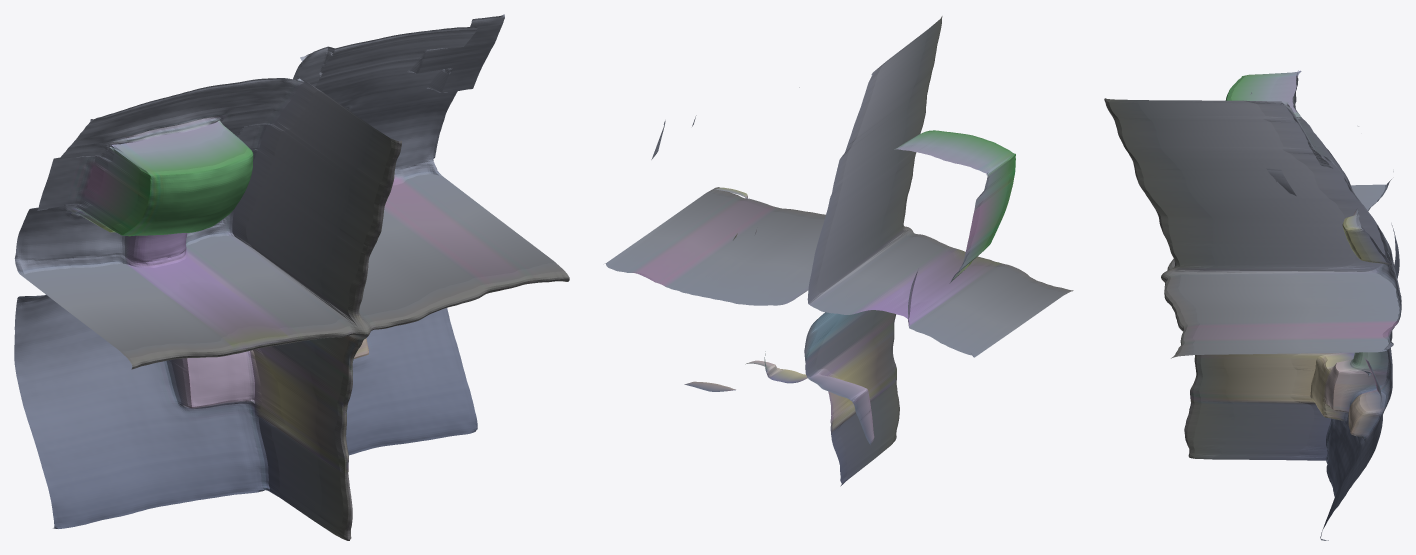
3 views of the same model, side by side, from view 1: azimuth 30°, elevation 25°; view 2: azimuth 150°, elevation 25°; view 3: azimuth 270°, elevation 25° (orthographic). The views are drawn at different scales.
Parts seen in each view (by area): view 1: geometry_0; view 2: geometry_0; view 3: geometry_0.
Part boxes in pixels (x1,y1,x2,y2): geometry_0: [14, 14, 569, 540]; geometry_0: [605, 16, 1073, 486]; geometry_0: [1104, 70, 1401, 540].
Size of the model in its own units: 2 by 2 by 1.5.
